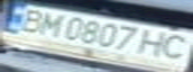0: (57, 14, 87, 43), (96, 20, 121, 51)
7: (115, 24, 142, 54)
8: (78, 18, 103, 47)
B: (9, 6, 51, 34)
C: (157, 33, 193, 62)
H: (136, 27, 172, 60)
M: (30, 10, 69, 38)
